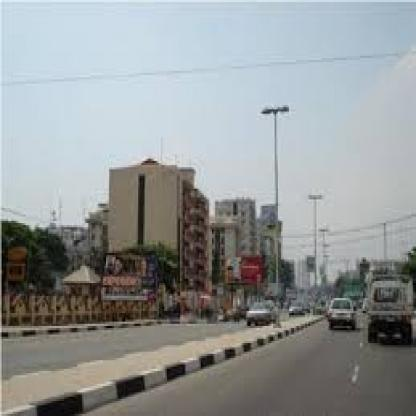car: (358, 260, 416, 346), (232, 296, 286, 334), (315, 288, 360, 332)
